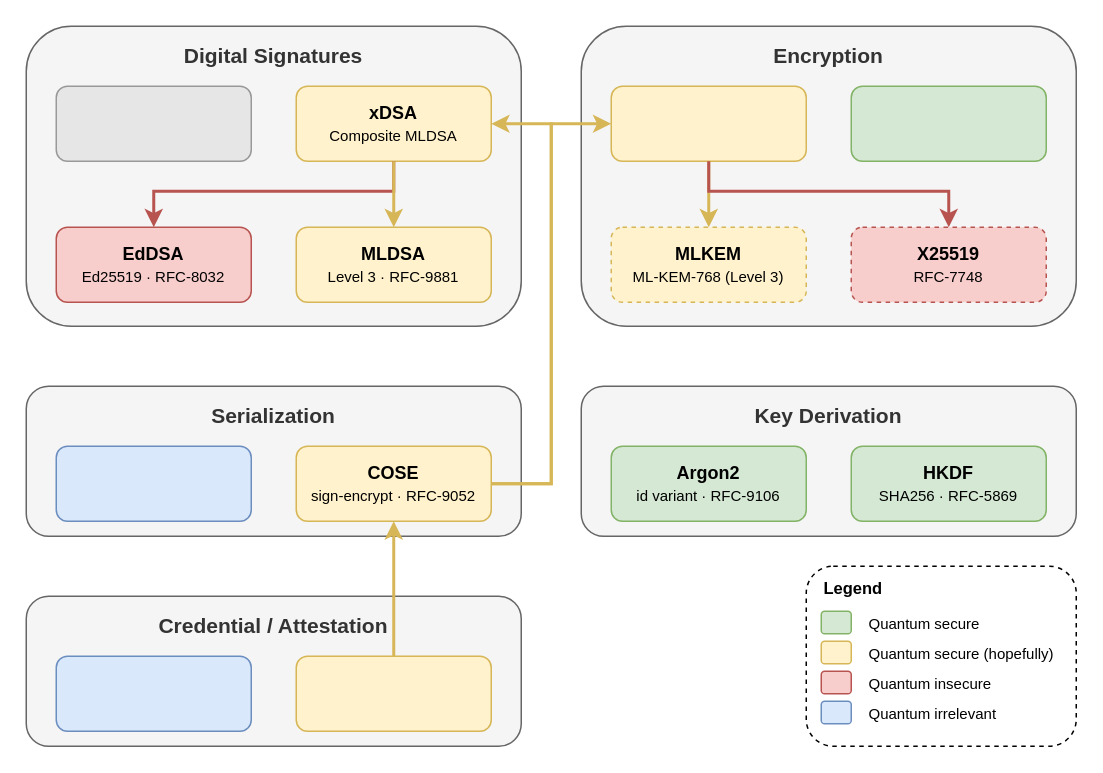
The diagram is 1103 pixels wide and 773 high, and some of its shapes have lost their labels. The shapes that lost their labels are listed below. From the top down, each one's centre as x and y in pixels, then its label:
At pixel 153 123: "RSA 2048-bit · RFC-8017".
At pixel 708 123: "xHPKE · RFC-9180 X-WING KEM".
At pixel 948 123: "STREAM ChaCha20-Poly1305".
At pixel 153 483: "CBOR Restricted · RFC-8949".
At pixel 153 693: "EAT RFC-9711".
At pixel 393 693: "CWT RFC-8392".
